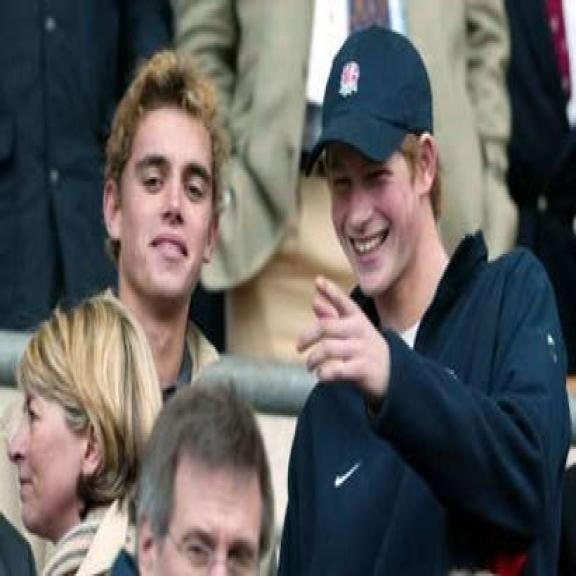face: (104, 96, 218, 303), (328, 121, 441, 307), (134, 440, 266, 576), (9, 367, 104, 534)
